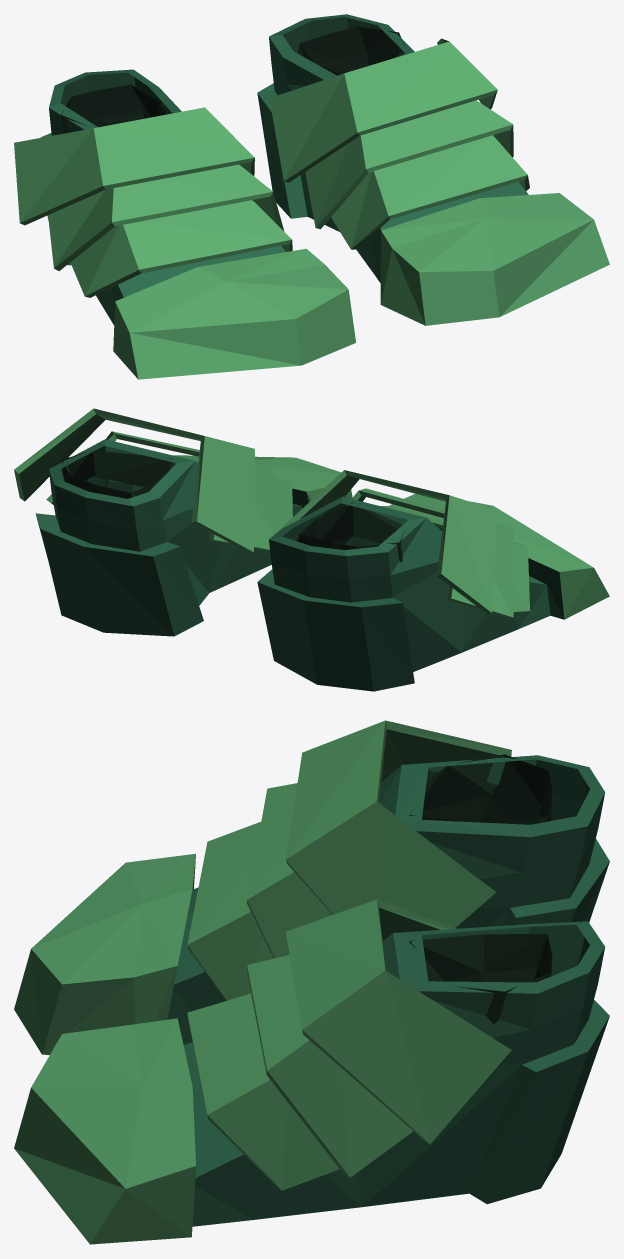
The model's file is adamant_feet.glb.
3 views of the same model, one above another, from view 1: azimuth 30°, elevation 25°; view 2: azimuth 150°, elevation 25°; view 3: azimuth 270°, elevation 25° (orthographic). The views are drawn at different scales.
Parts seen in each view (by area): view 1: adamant_feet; view 2: adamant_feet; view 3: adamant_feet.
Part boxes in pixels (x1,y1,x2,y2): adamant_feet: (14,14,609,379); adamant_feet: (14,408,609,691); adamant_feet: (14,720,609,1244).
Size of the model in its own units: 1 by 0.3281 by 0.7591.
